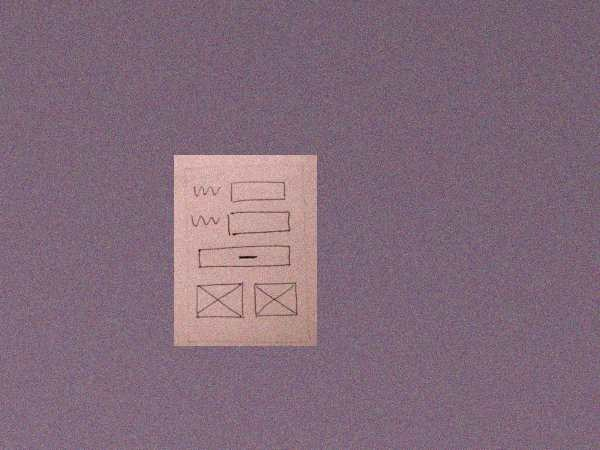button: (196, 244, 295, 270)
image: (193, 282, 249, 322), (251, 280, 303, 321)
text: (189, 214, 223, 230), (192, 183, 223, 199)
text_input: (225, 210, 294, 238), (227, 179, 290, 204)
